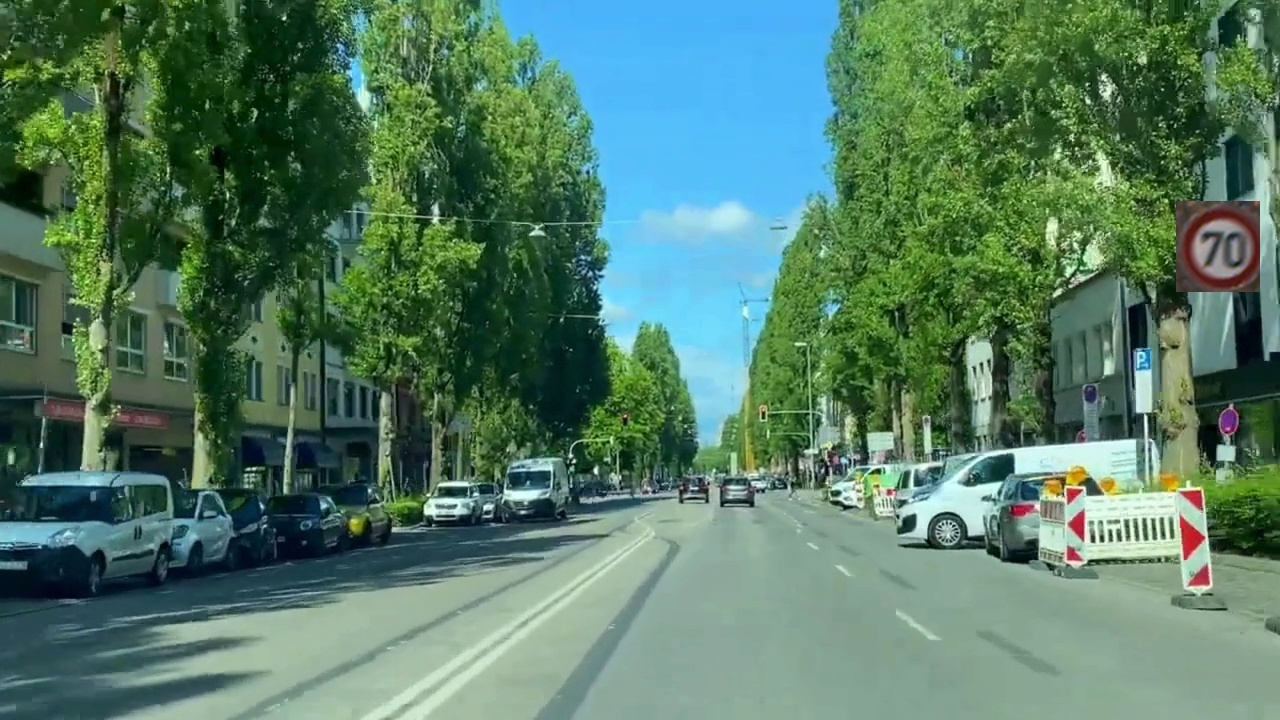Speed 70: (1176, 201, 1260, 292)
